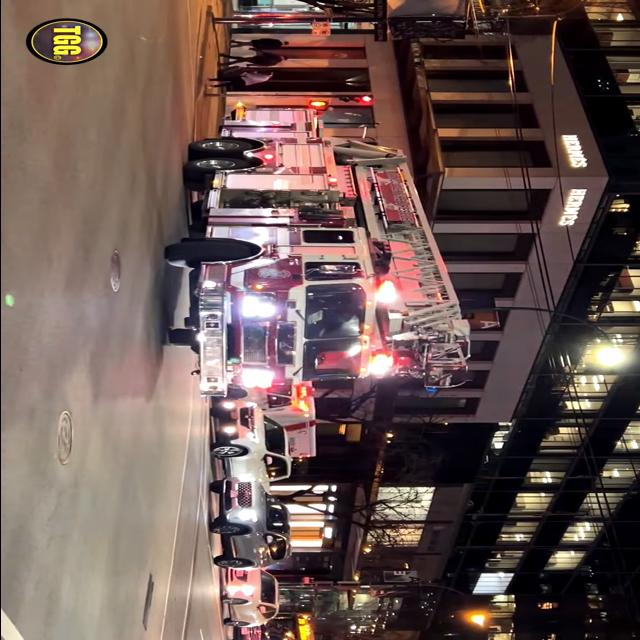emergency-vehicles: (137, 103, 485, 407)
